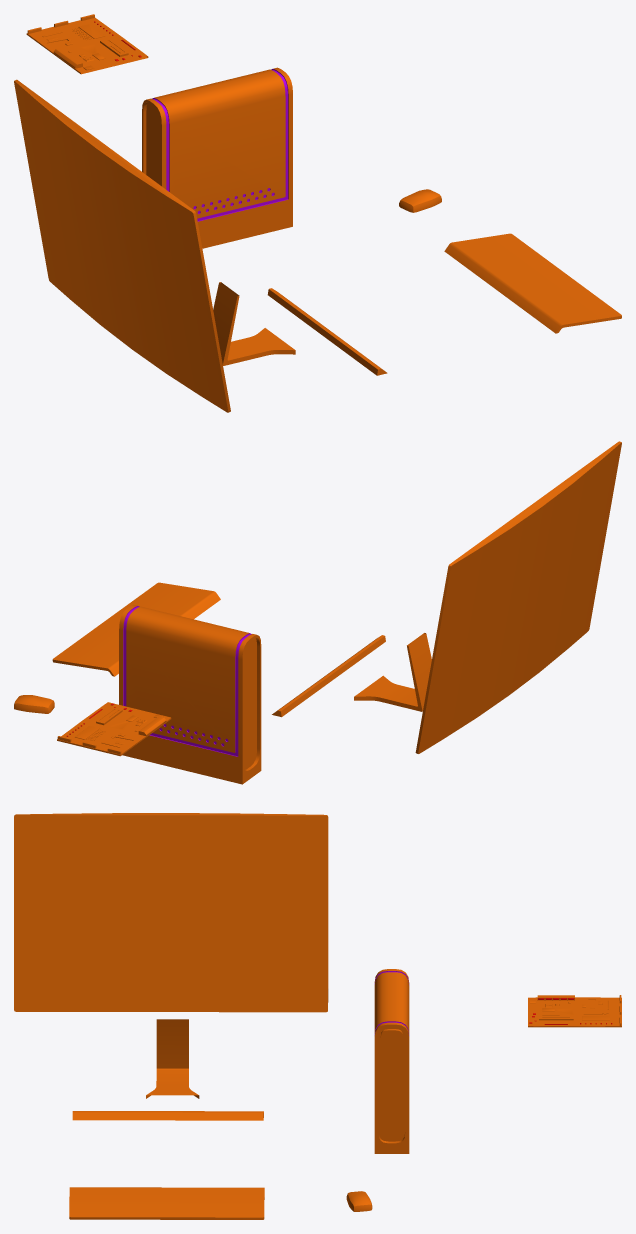
File: Clutter_High_EXP.FBX
3 renders of one model, top to bottom at view 1: azimuth 30°, elevation 25°; view 2: azimuth 150°, elevation 25°; view 3: azimuth 270°, elevation 25°, orthographic. The views are drawn at different scales.
Visible parts, largest first — view 1: Clutter_High_EXP; view 2: Clutter_High_EXP; view 3: Clutter_High_EXP.
Part boxes in pixels (x1,y1,x2,y2): Clutter_High_EXP: [14, 14, 621, 412]; Clutter_High_EXP: [14, 441, 621, 784]; Clutter_High_EXP: [14, 813, 621, 1219].
Size of the model in its own units: 23.68 by 11.71 by 30.69.
